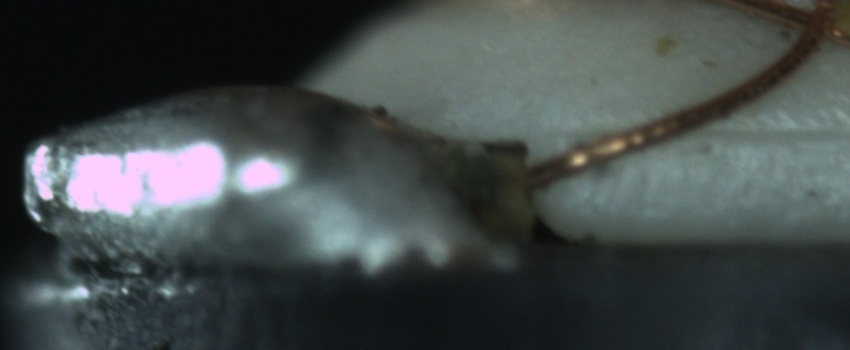CL: (776, 4, 842, 61)
DL: (642, 101, 849, 165)
